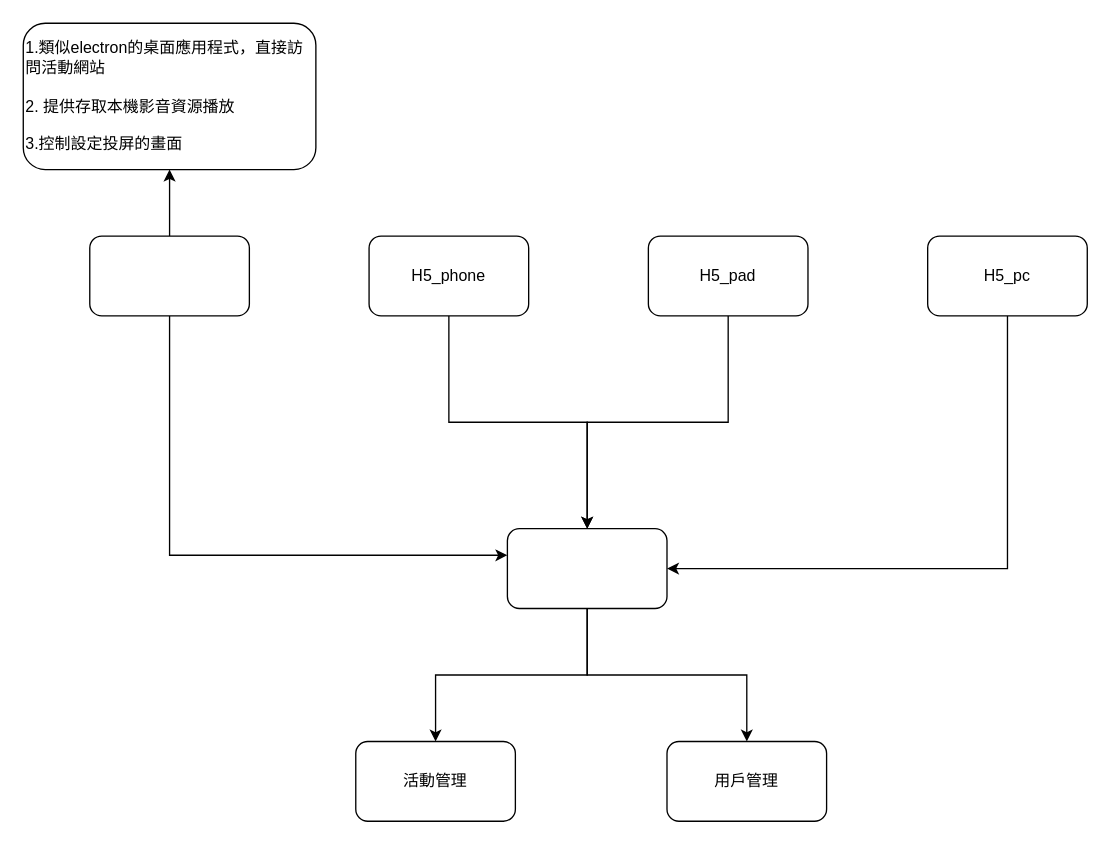
The diagram is 1111 pixels wide and 845 high, and some of its shapes have lost their labels. The centre of each missing label's shape, as x and y in pixels:
"H5_windows" goes at pixel 168 275.
"活動管理&用戶平台" goes at pixel 586 567.
